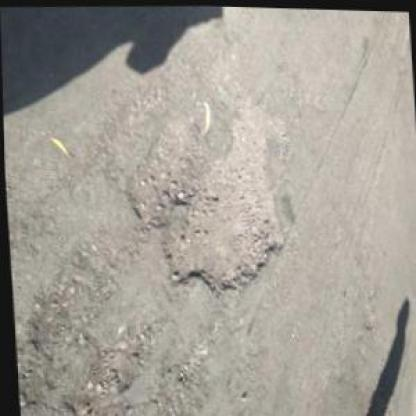pothole: (115, 76, 297, 300)
